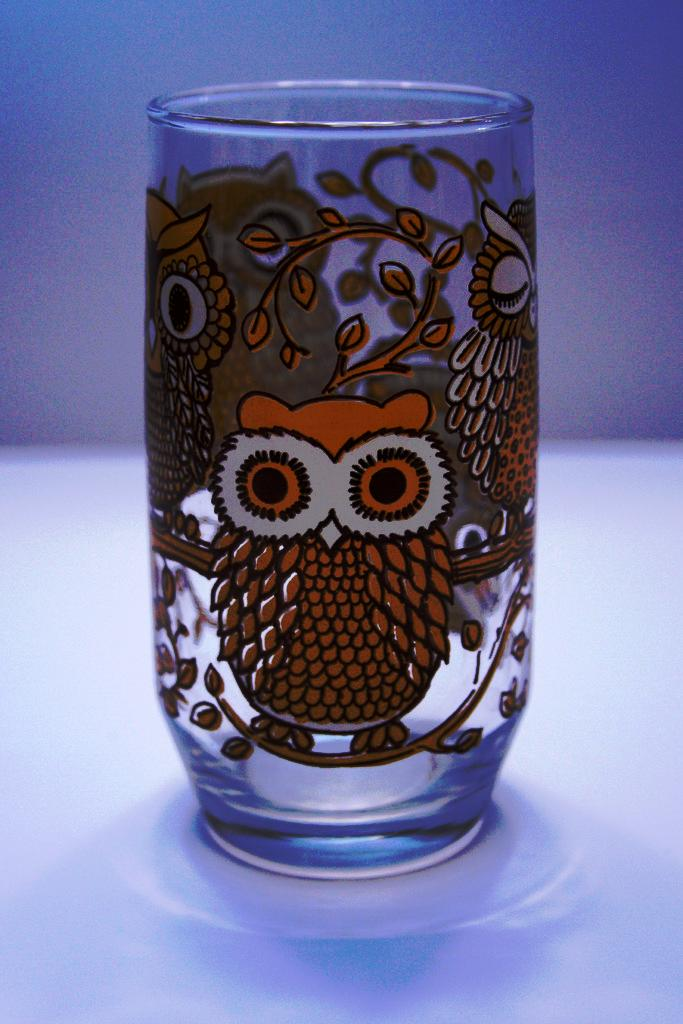Owl: (208, 390, 450, 756), (170, 155, 346, 402), (142, 190, 247, 515), (442, 194, 538, 529)
